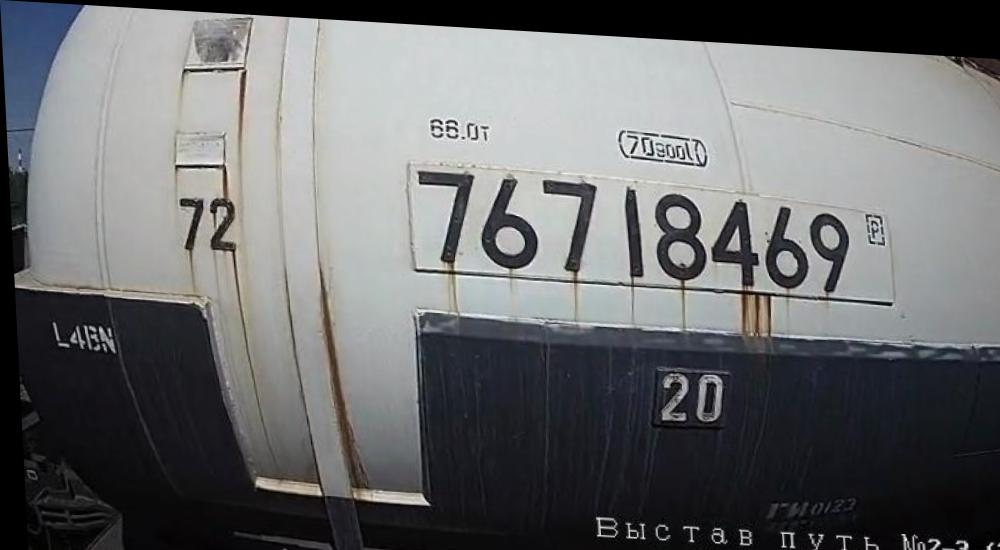Wagon-number: (408, 159, 859, 289)
